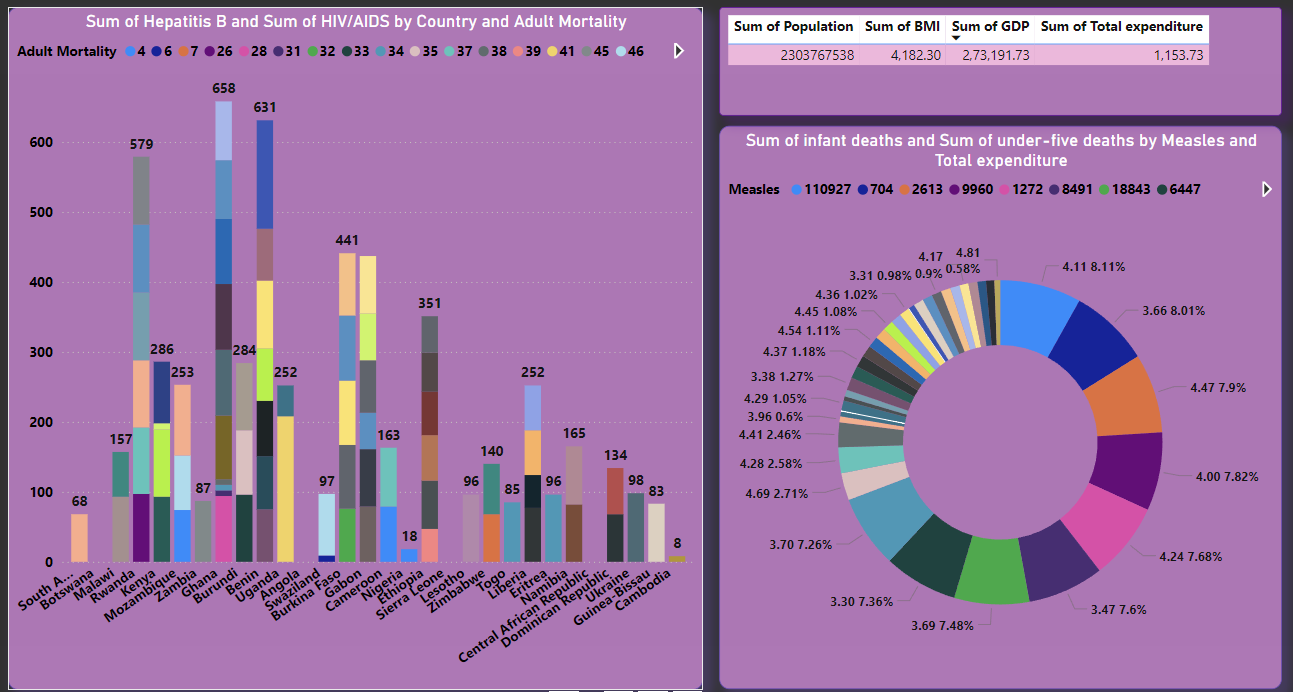

What the dashboard file says about the page in this screenshot:
{"tool":"powerbi","page":{"name":"Page 2","canvas":[1280,720],"ordinal":1},"visuals":[{"type":"columnChart","fields":{"Category":["Life Expectancy Data_report.Country"],"Series":["Life Expectancy Data_report.Adult Mortality"],"Y":["Sum(Life Expectancy Data_report.Hepatitis B)"]},"box":[19.6,19.6,679.9,667.7],"z":0},{"type":"donutChart","fields":{"Y":["Sum(Life Expectancy Data_report.infant deaths)"],"Category":["Life Expectancy Data_report.Measles "],"Series":["Life Expectancy Data_report.Total expenditure"]},"box":[715.4,135.7,550.3,551.5],"z":1000},{"type":"tableEx","fields":{"Values":["Sum(Life Expectancy Data_report.Population)","Sum(Life Expectancy Data_report. BMI )","Sum(Life Expectancy Data_report.GDP)","Sum(Life Expectancy Data_report.Total expenditure)"]},"box":[715.4,19.6,550.3,106.4],"z":2000}]}

Visuals, with their boxes on the page's 1280x720 design canvas (x1, y1, x2, y2). These are canvas units, not pixel positions in the 1293x692 screenshot, which may show the page scaled, cropped or inside an application window:
columnChart - Life Expectancy Data_report.Country x Life Expectancy Data_report.Adult Mortality: pyautogui.locateOnScreen(20, 20, 700, 687)
donutChart - Sum(Life Expectancy Data_report.infant deaths) x Life Expectancy Data_report.Measles : pyautogui.locateOnScreen(715, 136, 1266, 687)
tableEx - Sum(Life Expectancy Data_report.Population) x Sum(Life Expectancy Data_report. BMI ): pyautogui.locateOnScreen(715, 20, 1266, 126)
